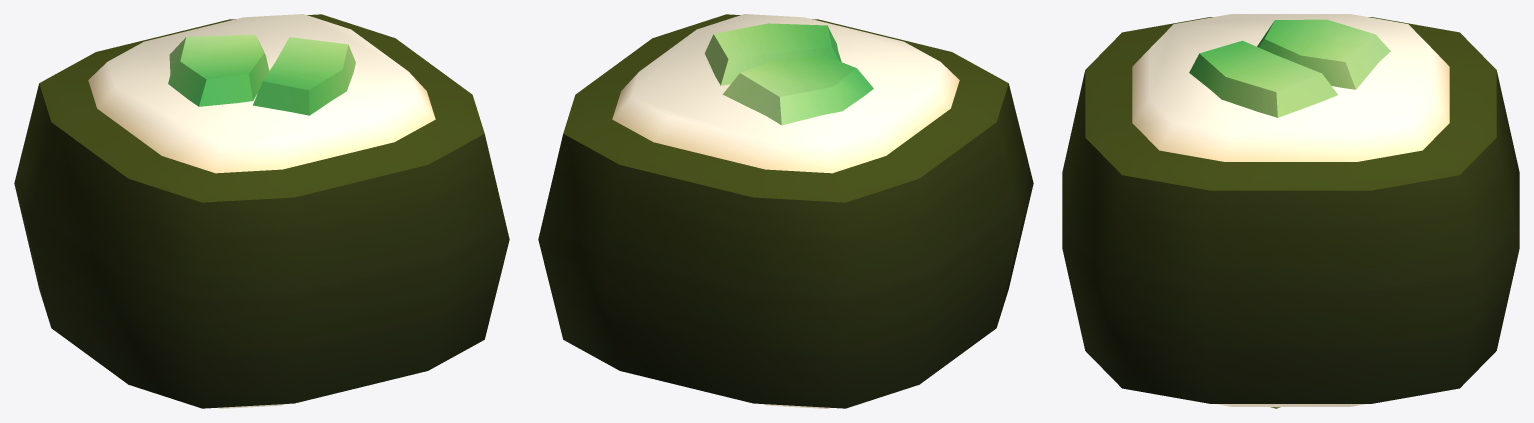
File: Sushi_Small_Nori_001.gltf
3 views of the same model, side by side, from view 1: azimuth 30°, elevation 25°; view 2: azimuth 150°, elevation 25°; view 3: azimuth 270°, elevation 25° (orthographic). The views are drawn at different scales.
Parts seen in each view (by area): view 1: Sushi_Small_Nori_001_x; view 2: Sushi_Small_Nori_001_x; view 3: Sushi_Small_Nori_001_x.
Boxes of the visible parts, x1=… form: Sushi_Small_Nori_001_x: x1=14, y1=14, x2=509, y2=408; Sushi_Small_Nori_001_x: x1=538, y1=14, x2=1033, y2=408; Sushi_Small_Nori_001_x: x1=1062, y1=14, x2=1519, y2=408.
Size of the model in its own units: 0.6758 by 0.5163 by 0.6758.
Materials: 1 (1 with a texture image).
